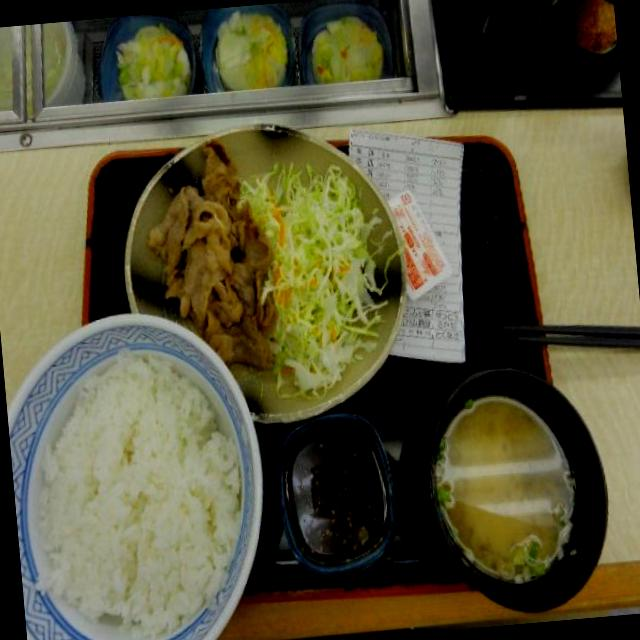Rice: (29, 350, 255, 636)
